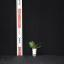leaf: (29, 42, 34, 48), (35, 43, 42, 47), (31, 41, 35, 47), (30, 45, 34, 48), (35, 46, 41, 48)
